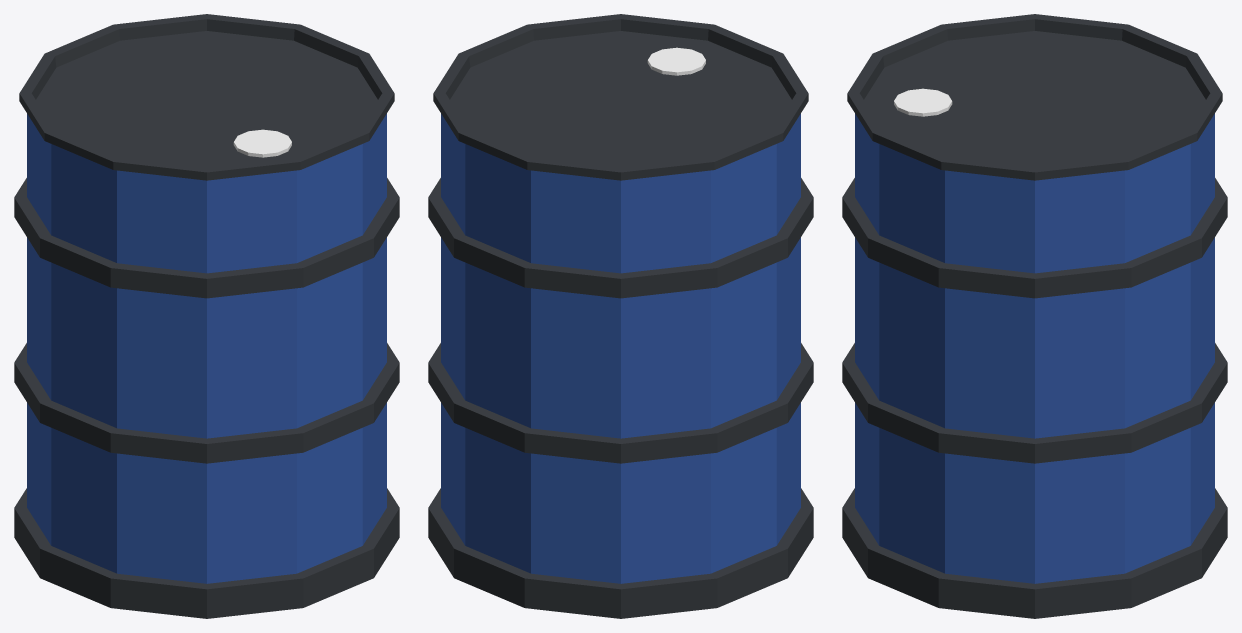
File: Barrel_3.fbx
The picture shows the model from 3 angles, left to right: view 1: azimuth 30°, elevation 25°; view 2: azimuth 150°, elevation 25°; view 3: azimuth 270°, elevation 25°; orthographic projection.
Visible parts, largest first — view 1: Barrel_3; view 2: Barrel_3; view 3: Barrel_3.
Part boxes in pixels (x1=…): Barrel_3: x1=14, y1=14, x2=399, y2=618; Barrel_3: x1=428, y1=14, x2=813, y2=618; Barrel_3: x1=842, y1=14, x2=1227, y2=618.
Bounding box in the file's own units: 78.49 × 99.8 × 78.49.
